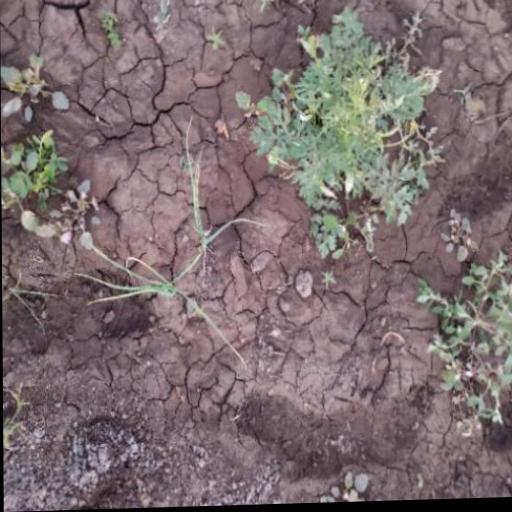weed: (228, 9, 463, 268), (0, 53, 111, 279)
